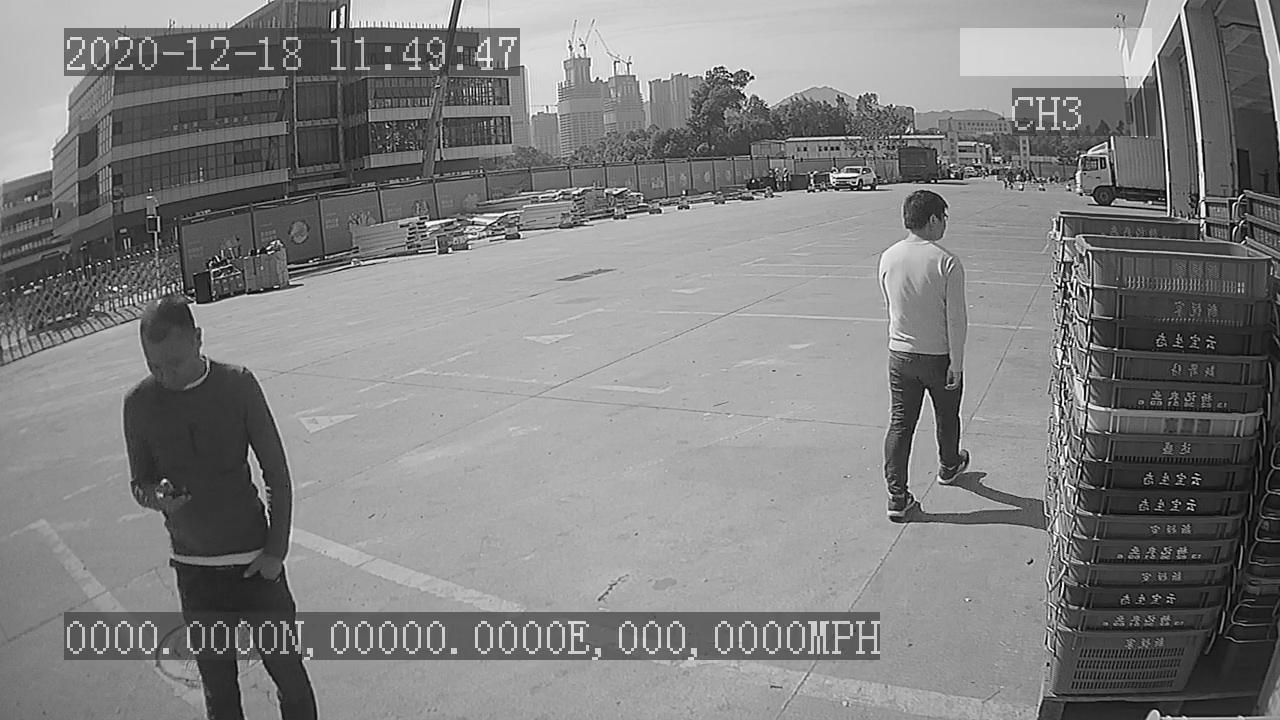person: (870, 186, 976, 522)
